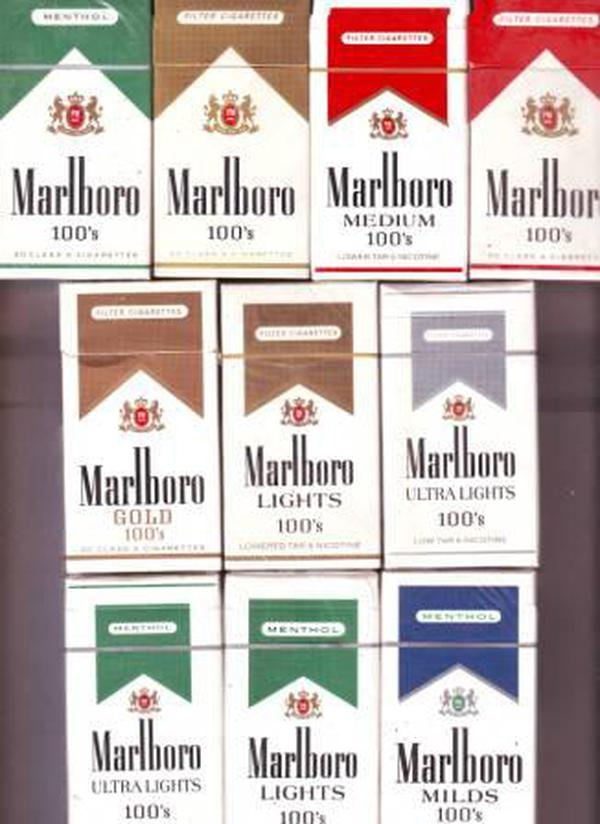marlboro_mentol: (3, 1, 150, 279), (64, 579, 223, 824), (225, 576, 380, 824)
marlboro_red: (312, 4, 464, 283), (468, 1, 600, 280)
